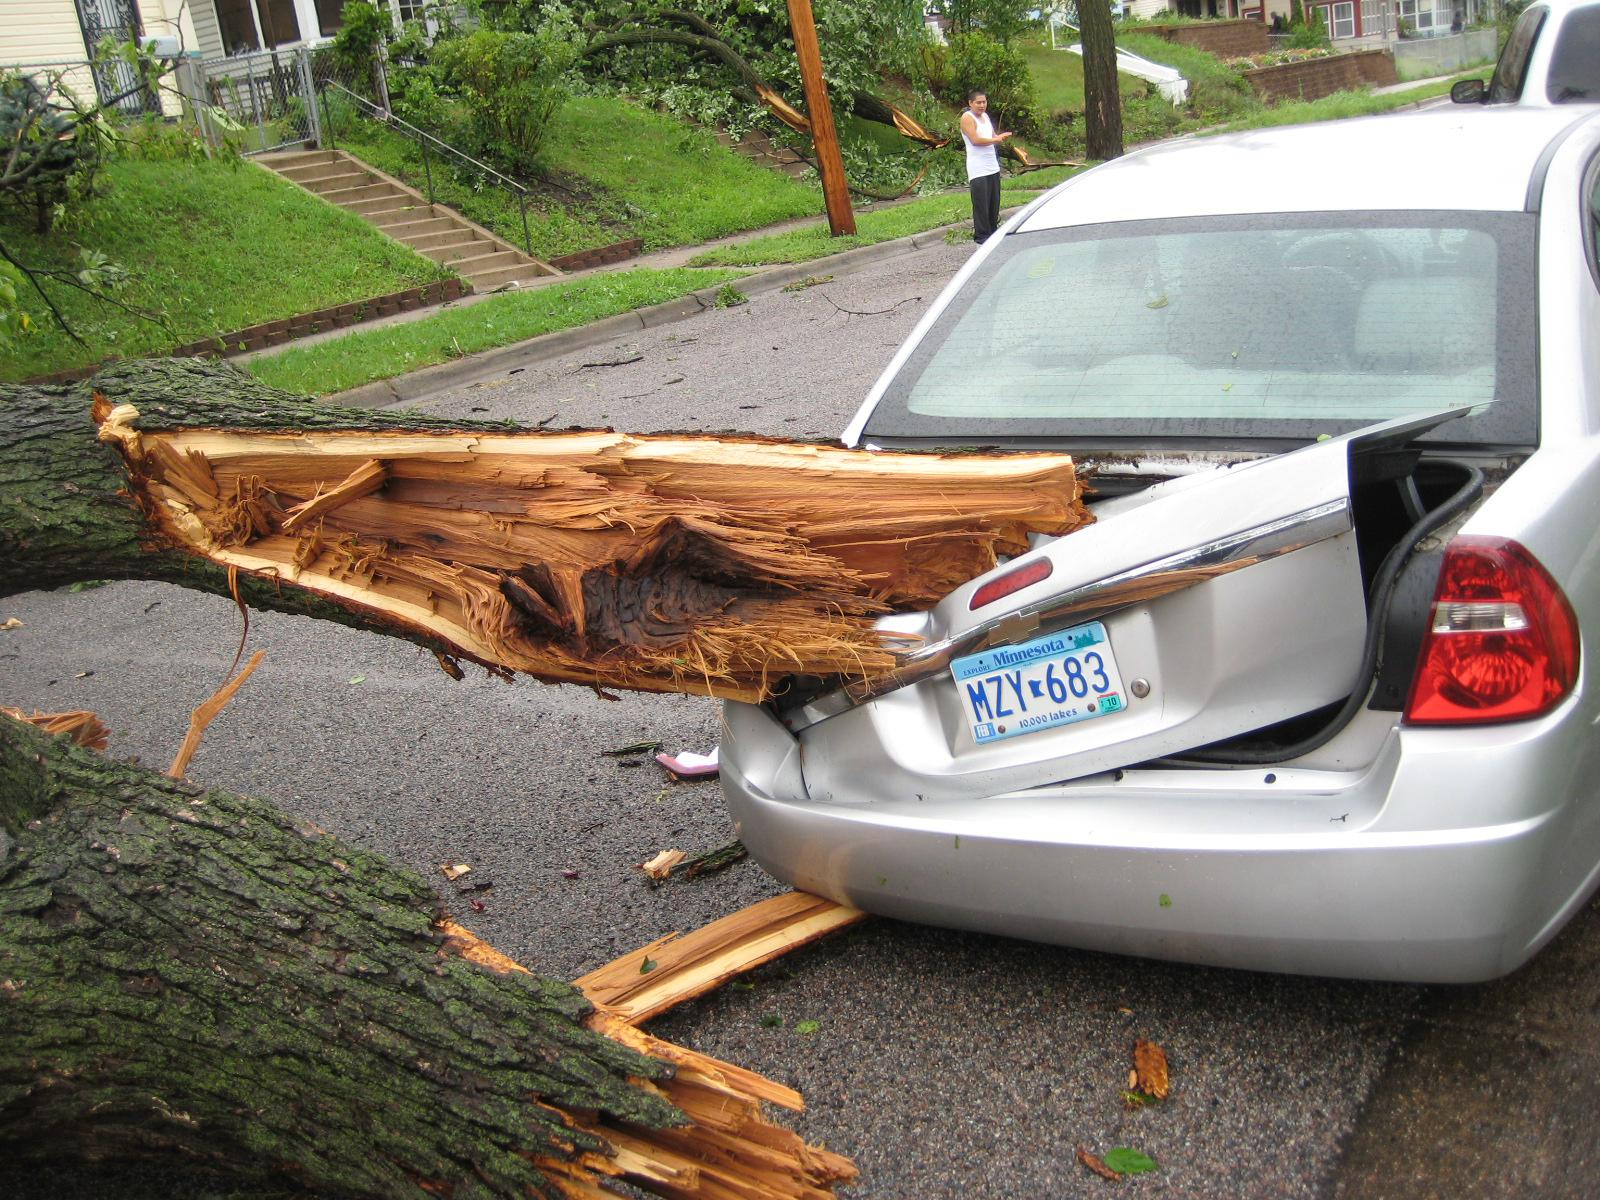boot-dent: (787, 450, 1380, 793)
